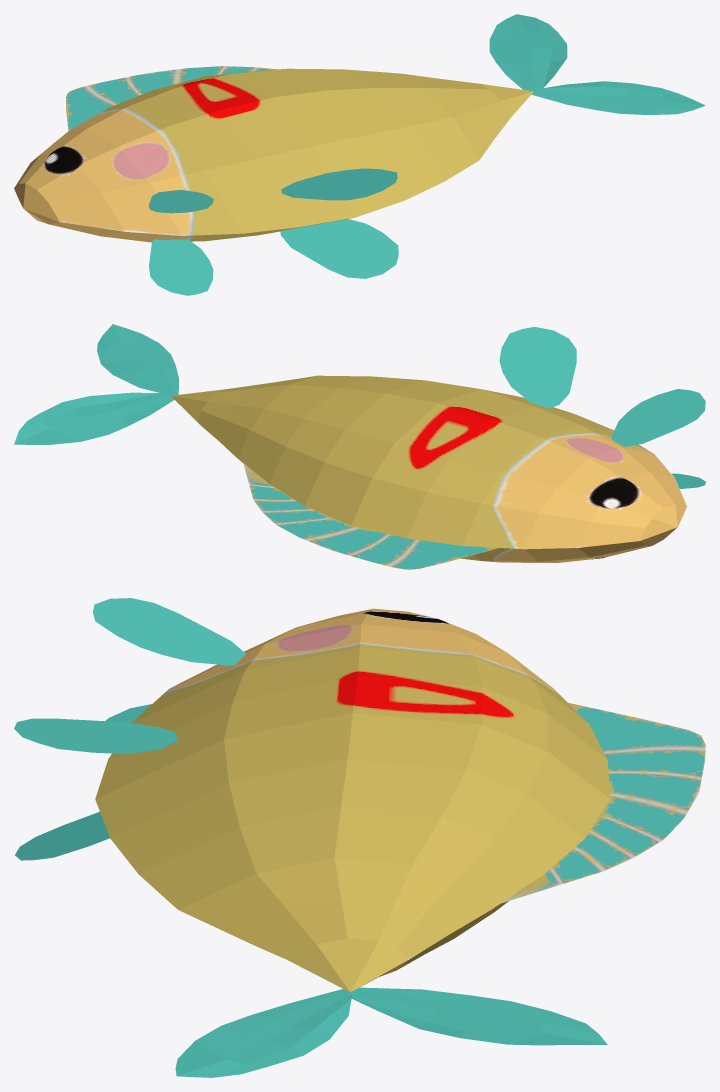
The model's file is fish_L_05.fbx.
The picture shows the model from 3 angles, top to bottom: view 1: azimuth 30°, elevation 25°; view 2: azimuth 150°, elevation 25°; view 3: azimuth 270°, elevation 25°; orthographic projection. The views are drawn at different scales.
Parts seen in each view (by area): view 1: Sphere.001; view 2: Sphere.001; view 3: Sphere.001.
Boxes of the visible parts, bbox=[...] form: Sphere.001: bbox=[14, 14, 705, 295]; Sphere.001: bbox=[14, 324, 705, 569]; Sphere.001: bbox=[14, 598, 705, 1077].
Size of the model in its own units: 366 by 64.77 by 235.
1 material, 1 textured.
